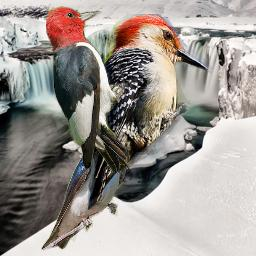Swallow: (41, 128, 127, 251)
Woodpecker: (88, 14, 214, 210), (46, 5, 132, 174)
